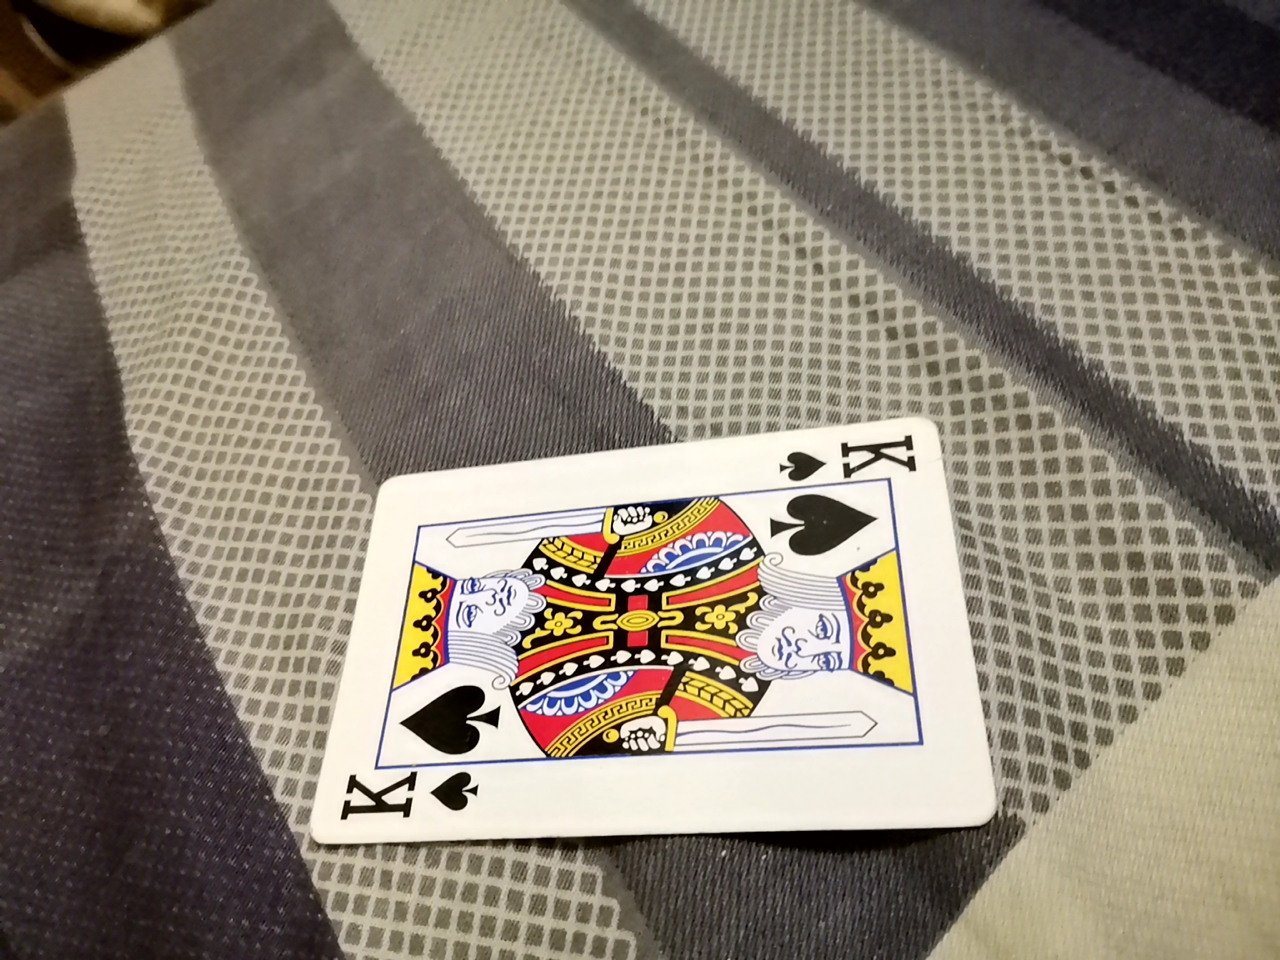ht k: (332, 400, 971, 835)
